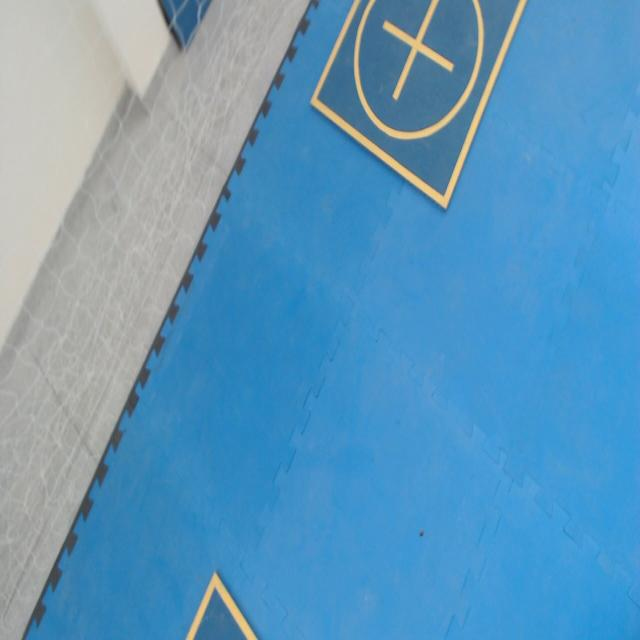base_pouso: (310, 0, 531, 212), (185, 572, 261, 639)
